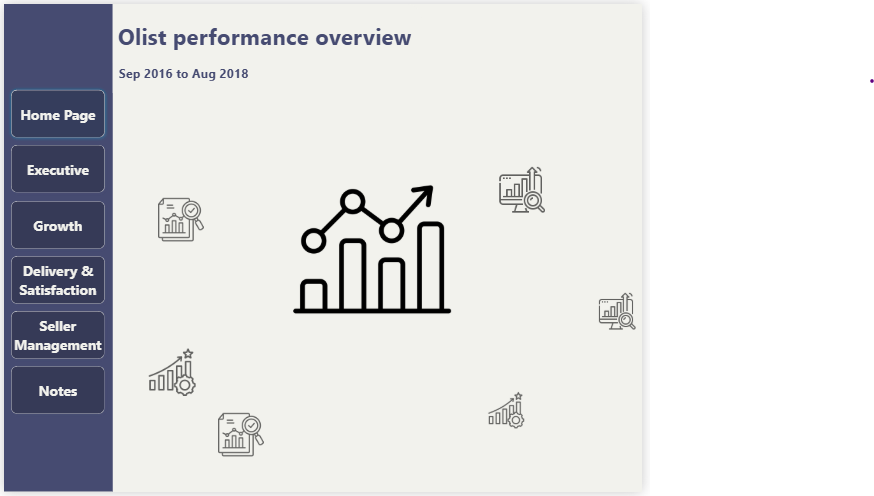

This screenshot's page, from the dashboard's own definition file:
{"tool":"powerbi","page":{"name":"Home Page","canvas":[1700,1300],"ordinal":0},"visuals":[{"type":"shape","title":"Executive Overview","box":[0,0,290,1300],"z":0},{"type":"shape","title":"Olist performance overview","box":[290,0,822.5,157.5],"z":2000},{"type":"shape","title":"Olist performance overview","box":[307.5,140,455,80],"z":3000},{"type":"actionButton","title":"Home Page","box":[10.2,958,267,145],"z":3000,"group":"g1"},{"type":"actionButton","title":"Home Page","box":[10.2,220,267.5,145],"z":4000,"group":"g1"},{"type":"image","box":[667.5,437.5,630,435],"z":4000},{"type":"actionButton","title":"Home Page","box":[10.2,367.6,267.5,145],"z":5000,"group":"g1"},{"type":"image","box":[382.5,917.5,130,130],"z":5000},{"type":"actionButton","title":"Home Page","box":[10.2,515.2,267.5,145],"z":6000,"group":"g1"},{"type":"image","box":[1272.5,1032.5,132.5,100],"z":6000},{"type":"actionButton","title":"Home Page","box":[10.2,662.8,267.5,145],"z":7000,"group":"g1"},{"type":"image","box":[567.5,1082.5,130,130],"z":7000},{"type":"image","box":[405,510,130,130],"z":8000},{"type":"actionButton","title":"Home Page","box":[10.2,810.4,267,145],"z":8000,"group":"g1"},{"type":"image","box":[1570,767.5,130,105],"z":11000},{"type":"image","box":[1315,430,130,130],"z":13000},{"type":"group","id":"g1","title":"Group 1","box":[10.2,220,267.5,883],"z":13001}]}

Visuals, with their boxes on the page's 1700x1300 design canvas (x1, y1, x2, y2). These are canvas units, not pixel positions in the 874x496 screenshot, which may show the page scaled, cropped or inside an application window:
"Executive Overview" shape: {"x1": 0, "y1": 0, "x2": 290, "y2": 1300}
"Olist performance overview" shape: {"x1": 290, "y1": 0, "x2": 1112, "y2": 158}
"Olist performance overview" shape: {"x1": 308, "y1": 140, "x2": 762, "y2": 220}
"Home Page" actionButton: {"x1": 10, "y1": 958, "x2": 277, "y2": 1103}
"Home Page" actionButton: {"x1": 10, "y1": 220, "x2": 278, "y2": 365}
image: {"x1": 668, "y1": 438, "x2": 1298, "y2": 872}
"Home Page" actionButton: {"x1": 10, "y1": 368, "x2": 278, "y2": 513}
image: {"x1": 382, "y1": 918, "x2": 512, "y2": 1048}
"Home Page" actionButton: {"x1": 10, "y1": 515, "x2": 278, "y2": 660}
image: {"x1": 1272, "y1": 1032, "x2": 1405, "y2": 1132}
"Home Page" actionButton: {"x1": 10, "y1": 663, "x2": 278, "y2": 808}
image: {"x1": 568, "y1": 1082, "x2": 698, "y2": 1212}
image: {"x1": 405, "y1": 510, "x2": 535, "y2": 640}
"Home Page" actionButton: {"x1": 10, "y1": 810, "x2": 277, "y2": 955}
image: {"x1": 1570, "y1": 768, "x2": 1700, "y2": 872}
image: {"x1": 1315, "y1": 430, "x2": 1445, "y2": 560}
"Group 1" group: {"x1": 10, "y1": 220, "x2": 278, "y2": 1103}
